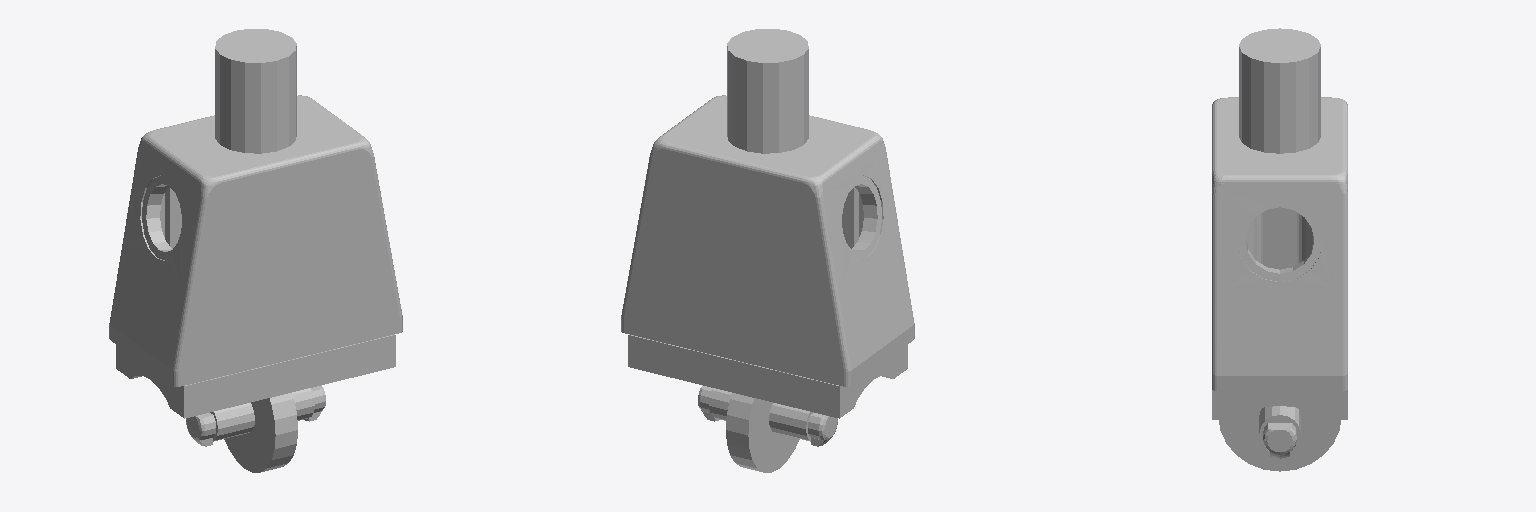
Rendered from body.obj.
The picture shows the model from 3 angles: view 1: azimuth 30°, elevation 25°; view 2: azimuth 150°, elevation 25°; view 3: azimuth 270°, elevation 25°; orthographic projection.
Visible parts, largest first — view 1: Part.2, Part.1; view 2: Part.2, Part.1; view 3: Part.2, Part.1.
Part boxes in pixels (x1,y1,x2,y2): Part.2: (109, 29, 402, 386); Part.1: (116, 334, 395, 472); Part.2: (621, 29, 914, 386); Part.1: (628, 334, 907, 472); Part.2: (1212, 28, 1347, 390); Part.1: (1212, 264, 1347, 471).
Bounding box in the file's own units: 15.4 × 27 × 7.92.